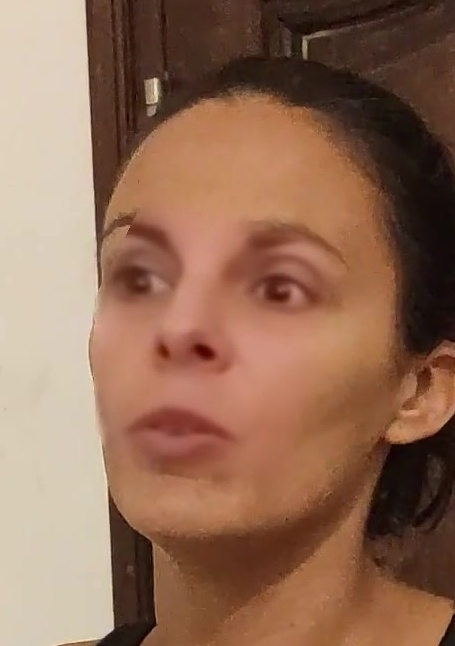eb_f: (92, 206, 357, 323)
